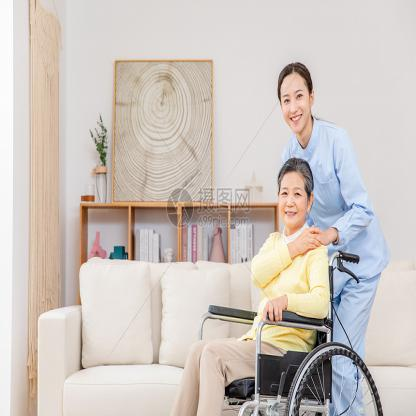wheelchair: (174, 158, 384, 415)
